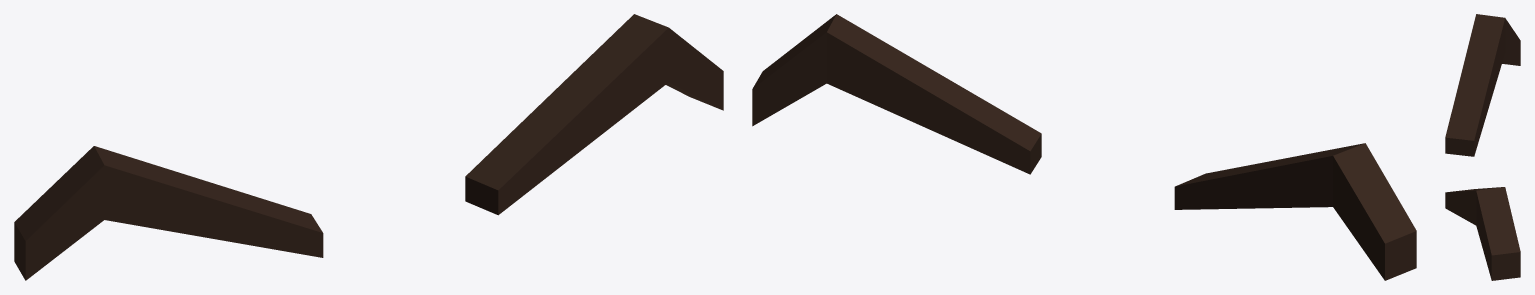
Rendered from AngryEyebrowsM.glb.
3 views of the same model, side by side, from view 1: azimuth 30°, elevation 25°; view 2: azimuth 150°, elevation 25°; view 3: azimuth 270°, elevation 25° (orthographic). The views are drawn at different scales.
Parts seen in each view (by area): view 1: AngryEyebrowsM.001; view 2: AngryEyebrowsM.001; view 3: AngryEyebrowsM.001.
Boxes of the visible parts, x1=… form: AngryEyebrowsM.001: x1=14, y1=14, x2=723, y2=280; AngryEyebrowsM.001: x1=752, y1=14, x2=1416, y2=280; AngryEyebrowsM.001: x1=1445, y1=14, x2=1520, y2=280.
Bounding box in the file's own units: 1.73 × 0.2898 × 0.2519.
